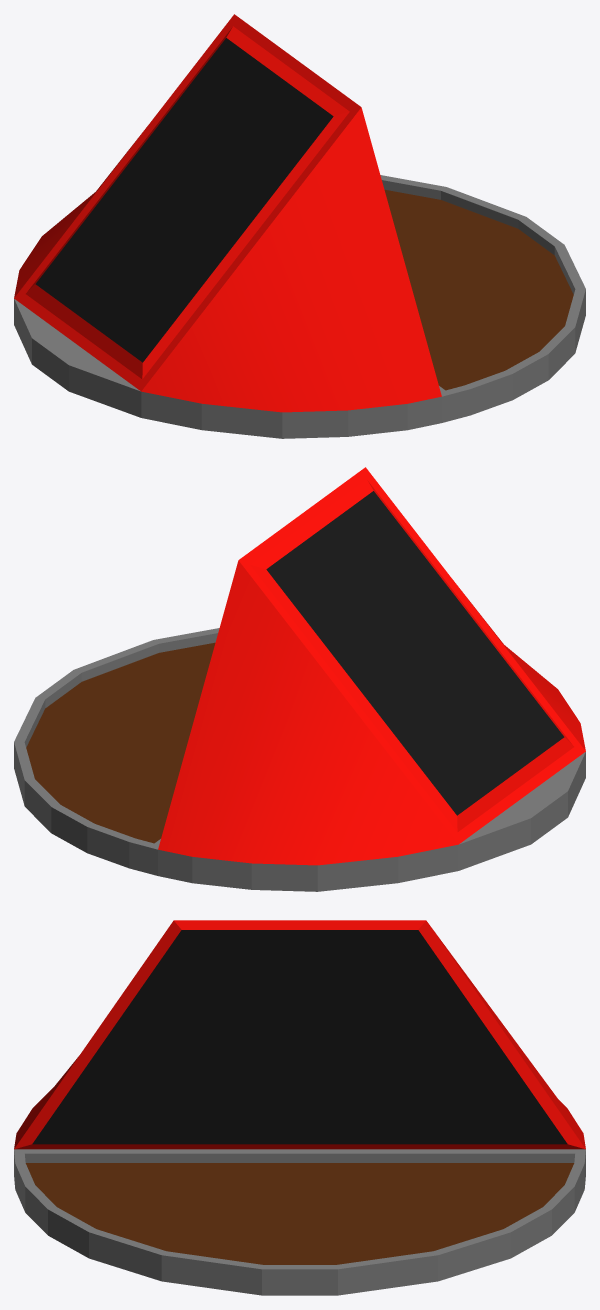
File: Mirror_R.fbx
3 views of the same model, one above another, from view 1: azimuth 30°, elevation 25°; view 2: azimuth 150°, elevation 25°; view 3: azimuth 270°, elevation 25° (orthographic).
Parts seen in each view (by area): view 1: Mirror_R, Box028; view 2: Mirror_R, Box028; view 3: Mirror_R, Box028.
Boxes of the visible parts, bbox=[...] form: Mirror_R: bbox=[14, 14, 441, 412]; Box028: bbox=[14, 175, 585, 438]; Mirror_R: bbox=[158, 467, 585, 865]; Box028: bbox=[14, 628, 585, 891]; Mirror_R: bbox=[14, 920, 585, 1149]; Box028: bbox=[14, 1149, 585, 1295].
Bounding box in the file's own units: 54.61 × 27.09 × 55.02.
